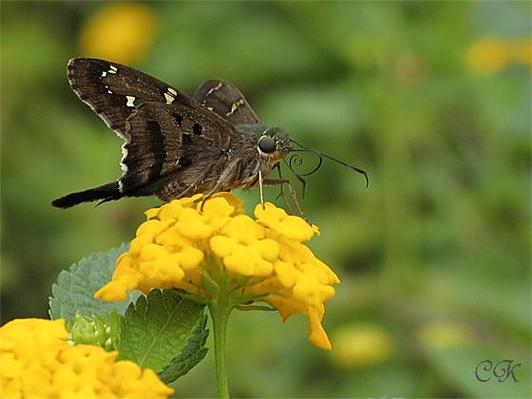Hesperiidae: (50, 56, 374, 220)
